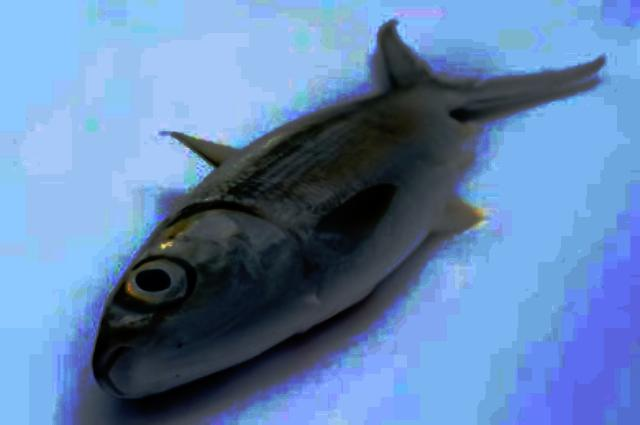Healthy Fish: (90, 20, 606, 402)
